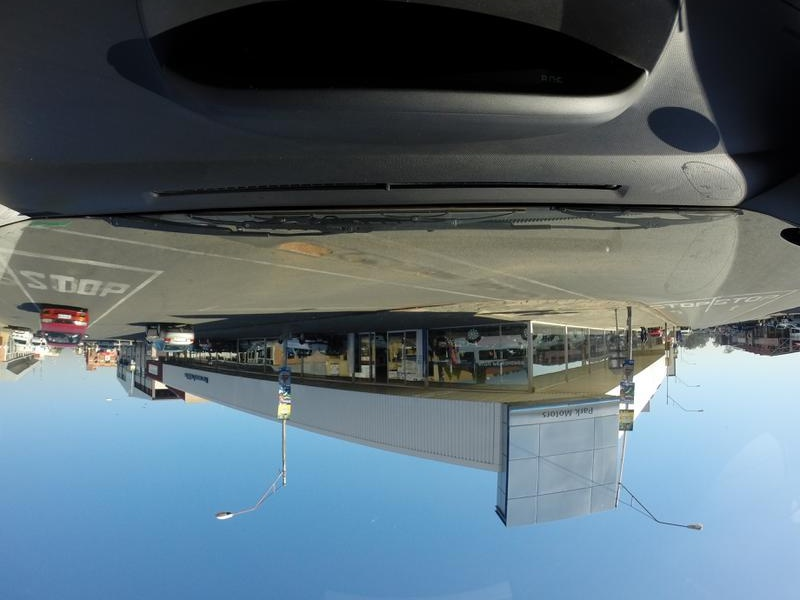pothole: (278, 240, 327, 263), (345, 255, 376, 268)
